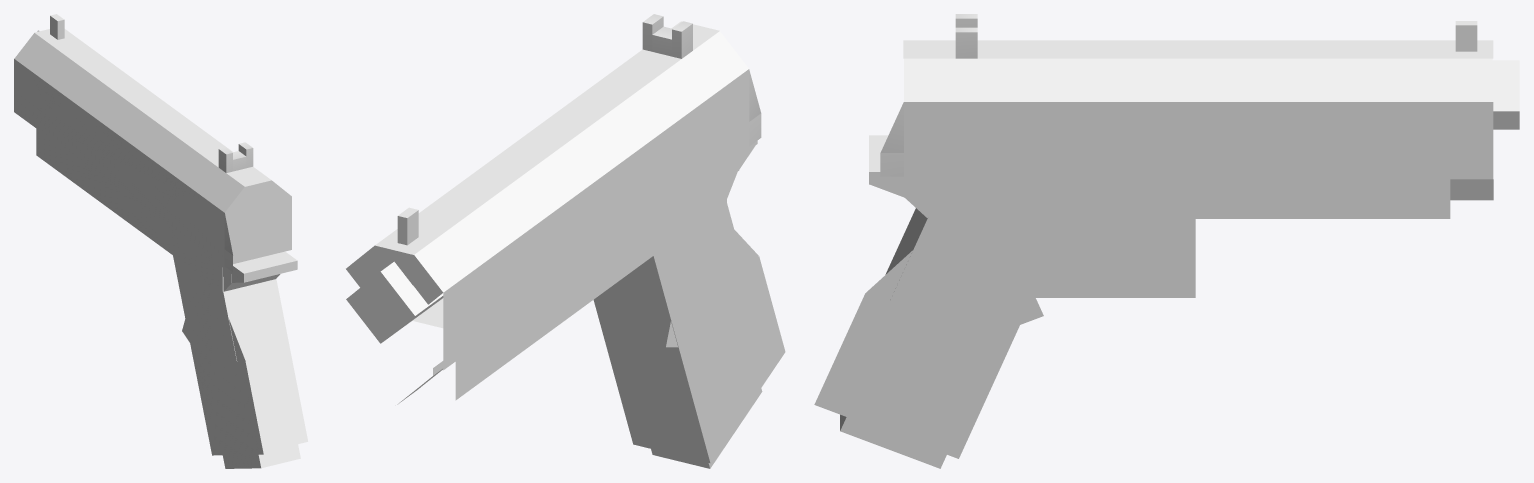
The model's file is jeg_combat_pistol.glb.
3 views of the same model, side by side, from view 1: azimuth 30°, elevation 25°; view 2: azimuth 150°, elevation 25°; view 3: azimuth 270°, elevation 25° (orthographic). The views are drawn at different scales.
Visible parts, largest first — view 1: Gun; view 2: Gun; view 3: Gun.
Part boxes in pixels (<box>): Gun: <box>14,14,307,468</box>; Gun: <box>346,14,785,468</box>; Gun: <box>814,14,1519,468</box>.
Size of the model in its own units: 0.0625 by 0.2744 by 0.4058.
1 material, 1 textured.
